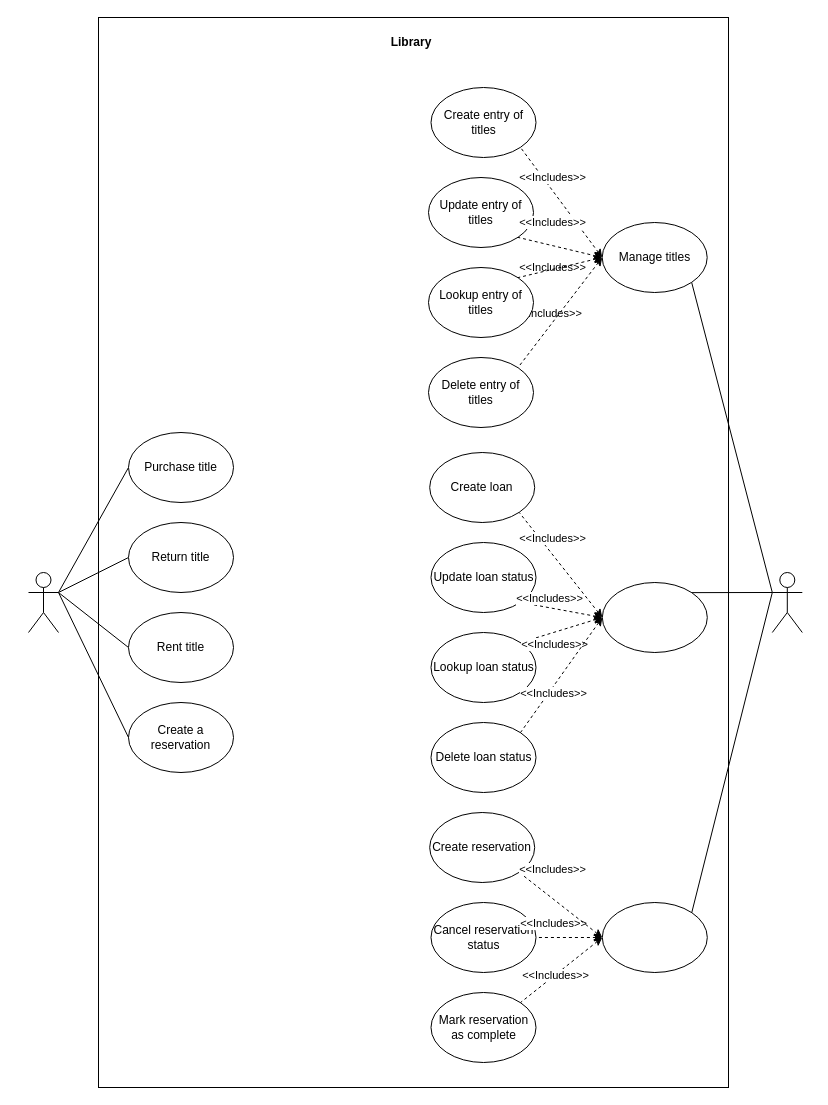
Some shapes in this 828 by 1105 pixel diagram are drawn without their labels. The box of each missing label's shape, as (x1, y1, x2, y2) in pixels:
Customer: (28, 572, 58, 632)
Librarian: (771, 572, 802, 632)
Manage loans: (601, 582, 707, 652)
Manage reservations: (601, 902, 707, 972)
